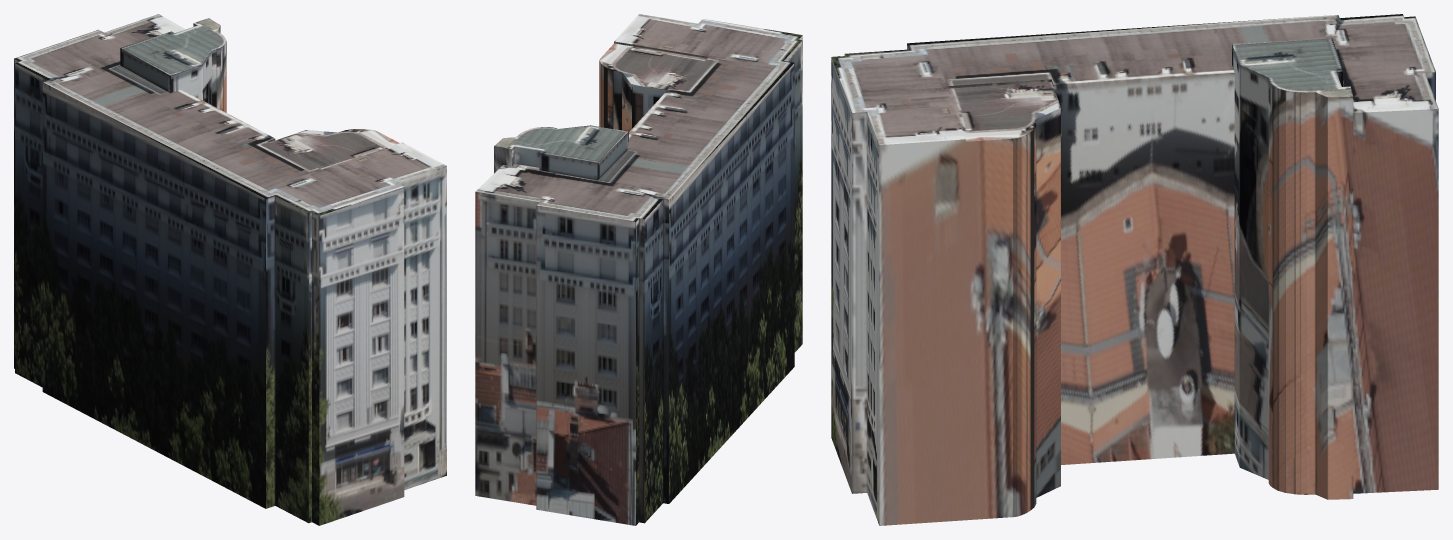
The picture shows the model from 3 angles, left to right: view 1: azimuth 30°, elevation 25°; view 2: azimuth 150°, elevation 25°; view 3: azimuth 270°, elevation 25°; orthographic projection. The views are drawn at different scales.
Parts seen in each view (by area): view 1: Z_UP; view 2: Z_UP; view 3: Z_UP.
Part boxes in pixels (x1,y1,x2,y2): Z_UP: [14, 14, 446, 525]; Z_UP: [475, 14, 802, 525]; Z_UP: [831, 14, 1438, 525].
Size of the model in its own units: 25.31 by 36.21 by 49.54.
2 materials, 1 textured.
